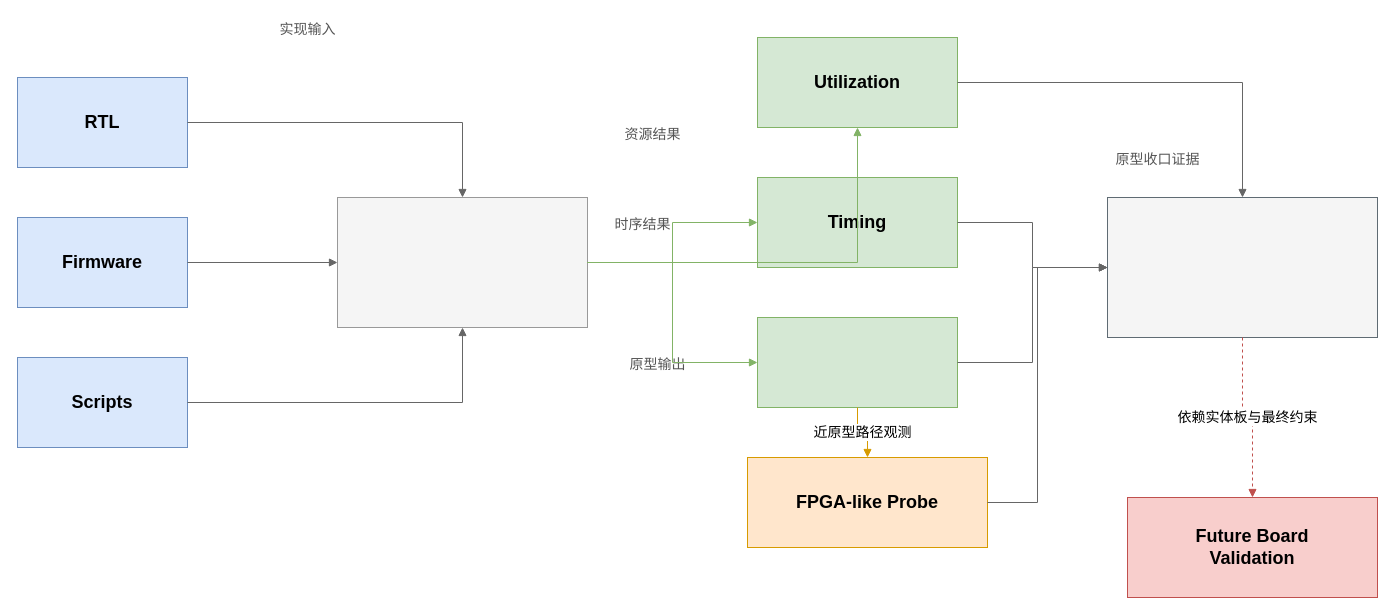
Image size: 1395x615. Some labels were removed from this diagram. Each missing label, with the centre of its shape:
Bitstream: pixel 857 362
Pre-board Closure: pixel 1242 267
Vivado impl50: pixel 462 262
